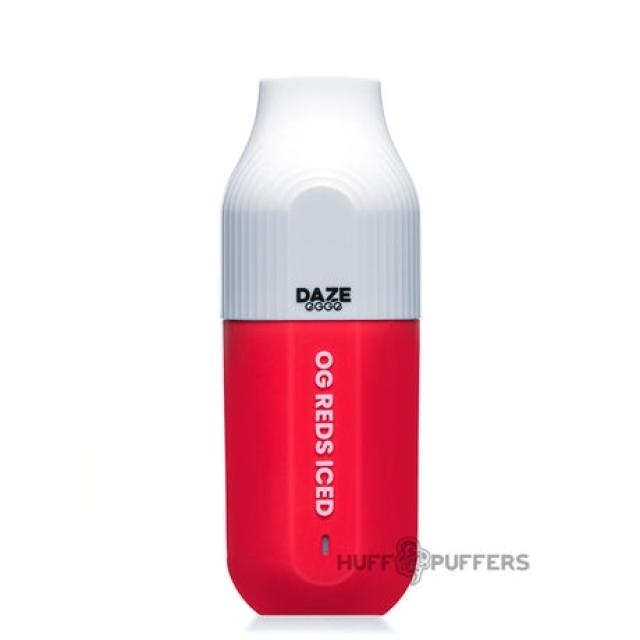Hazard: (218, 74, 422, 616)
